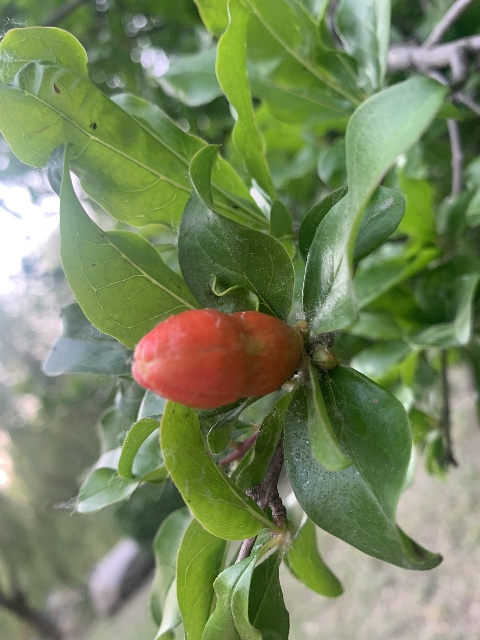bud: (130, 307, 303, 409)
